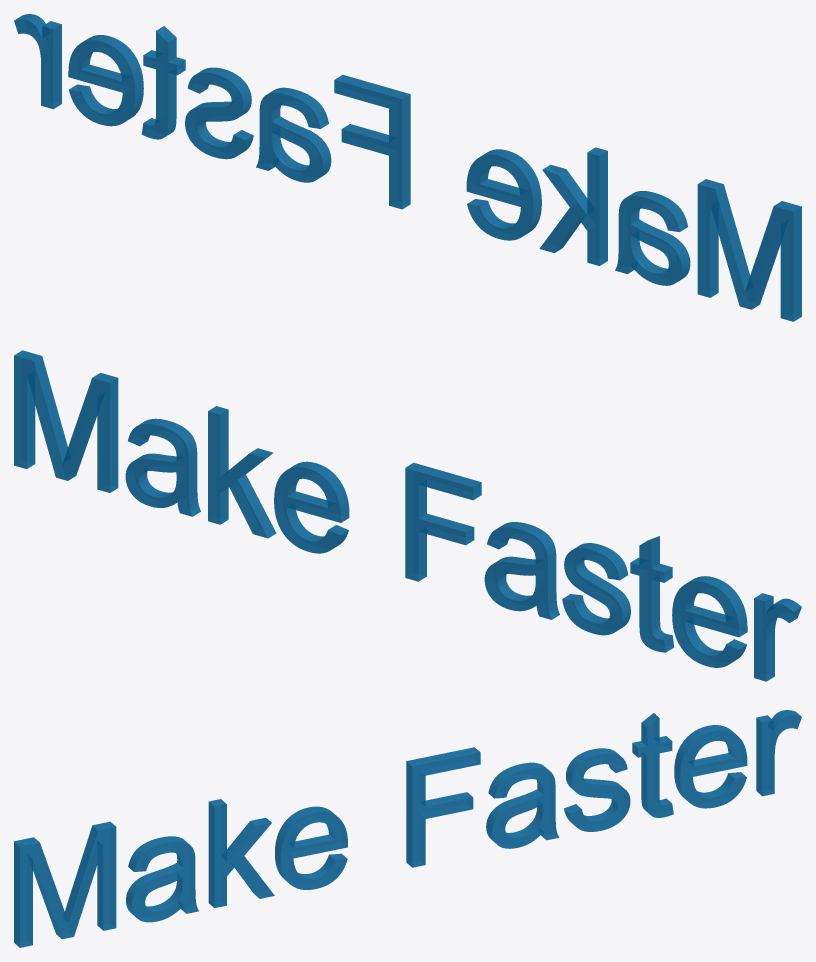
The model's file is Make_faster.FBX.
3 views of the same model, one above another, from view 1: azimuth 30°, elevation 25°; view 2: azimuth 210°, elevation 25°; view 3: azimuth 270°, elevation 25° (orthographic). The views are drawn at different scales.
Parts seen in each view (by area): view 1: TextPlus001; view 2: TextPlus001; view 3: TextPlus001.
Part boxes in pixels (x1,y1,x2,y2): TextPlus001: (14,14,801,321); TextPlus001: (14,350,801,681); TextPlus001: (14,710,801,947).
Bounding box in the file's own units: 7.32 × 2.13 × 14.78.
